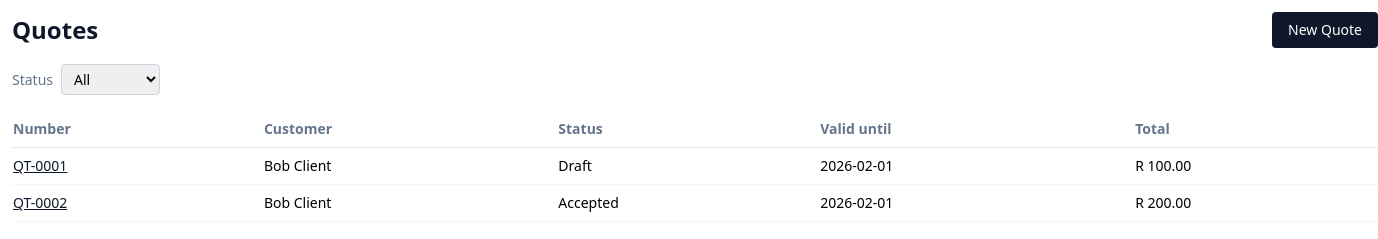
Test: QuotesListPage › filters rows by status via a client-side status filter
Check: the link "QT-0001" is shown, box [13,156,67,175]
Check: the link "QT-0002" is shown, box [13,193,67,212]
Select "Accepted" in the dropdown labelled "Status" at (110, 80), box [61,64,160,95]
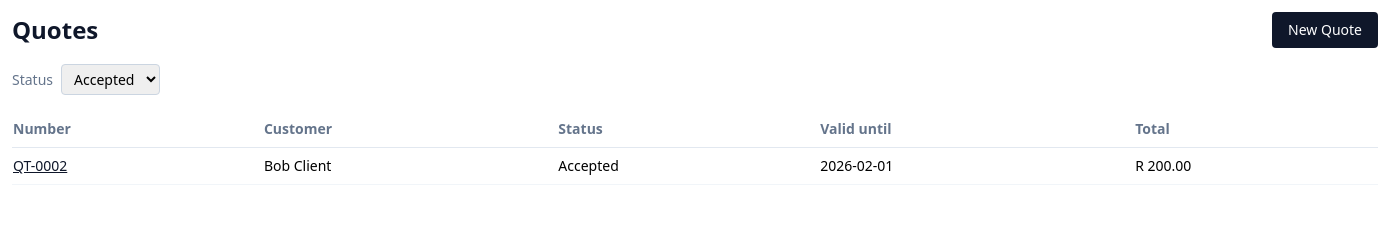
Check: the link "QT-0002" is shown, box [13,156,67,175]
Check: the link "QT-0001" is gone
